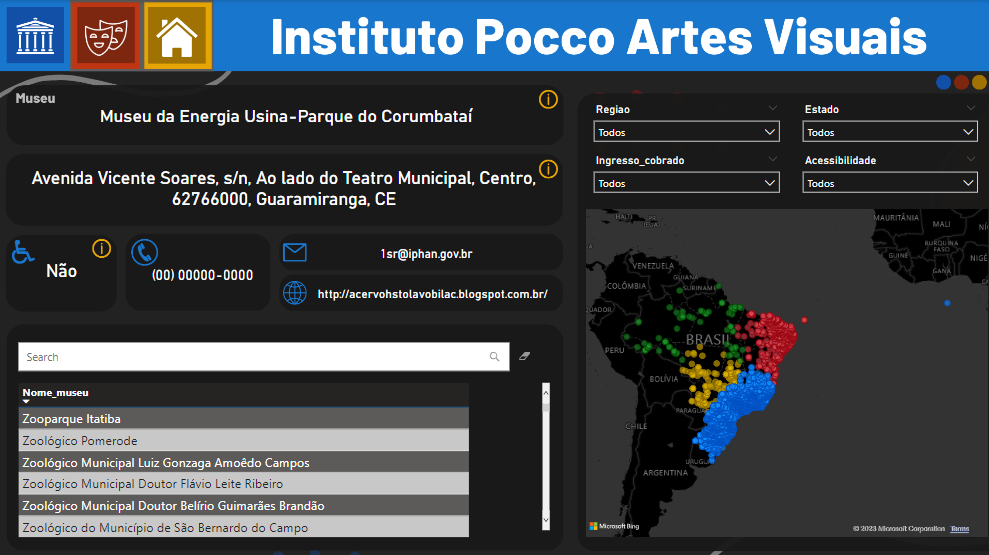

Layout of this report page (visuals, bound fields, positions):
{"tool":"powerbi","page":{"name":"Museus","canvas":[1280,720],"ordinal":1},"visuals":[{"type":"map","fields":{"Y":["Fato_museus.Latitude"],"X":["Fato_museus.Longitude"],"Series":["DIM_M_Regiao.Regiao"]},"box":[751.5,264.3,528.5,433.5],"z":0},{"type":"slicer","fields":{"Values":["DIM_M_Regiao.Regiao"]},"box":[756,128,260,66],"z":1000},{"type":"slicer","fields":{"Values":["DIM_M_Estado.Estado"]},"box":[1025.4,128,246.4,66.1],"z":2000},{"type":"slicer","fields":{"Values":["DIM_M_Ingresso_cobrado.Ingresso_cobrado"]},"box":[755.6,194.1,260.1,67.4],"z":3000},{"type":"slicer","fields":{"Values":["DIM_M_Acessibilidade.Acessibilidade"]},"box":[1025.4,194.1,246.4,67.4],"z":4000},{"type":"tableEx","fields":{"Values":["Fato_museus.Nome"]},"box":[17.9,488.6,696.4,209.2],"z":5000},{"type":"textFilter25A4896A83E0487089E2B90C9AE57C8A","fields":{"field":["Fato_museus.Nome_museu"]},"box":[17.9,436.3,682.7,52.3],"z":6000},{"type":"card","fields":{"Values":["Min(Fato_museus.Nome)"]},"box":[0,110.1,732.2,78.5],"z":7000},{"type":"card","title":"Acessibilidade","fields":{"Values":["Min(DIM_M_Acessibilidade.Acessibilidade)"]},"box":[0,302.9,158.6,90],"z":8000},{"type":"card","fields":{"Values":["Min(Fato_museus.Endereco)"]},"box":[0,191.3,732.2,101.8],"z":9000},{"type":"card","fields":{"Values":["Min(Fato_museus.Telefone_pub)"]},"box":[178.6,317.1,167.1,75.7],"z":10000},{"type":"card","fields":{"Values":["Min(Fato_museus.Sites)"]},"box":[401.4,355.7,314.3,47.1],"z":11000},{"type":"card","fields":{"Values":["Min(Fato_museus.Email_pub)"]},"box":[384.3,300,331.4,55.7],"z":12000},{"type":"actionButton","box":[90.3,0,92.9,91.6],"z":13000},{"type":"actionButton","box":[183.2,0,92.9,91.6],"z":14000}]}

Visuals, with their boxes in screenshot pixels (x1, y1, x2, y2), scaled from the page's 1280x720 canvas onto the 989x555 screenshot:
map - Fato_museus.Latitude x Fato_museus.Longitude: l=581, t=204, r=988, b=538
slicer - DIM_M_Regiao.Regiao: l=584, t=99, r=785, b=150
slicer - DIM_M_Estado.Estado: l=792, t=99, r=983, b=150
slicer - DIM_M_Ingresso_cobrado.Ingresso_cobrado: l=584, t=150, r=785, b=202
slicer - DIM_M_Acessibilidade.Acessibilidade: l=792, t=150, r=983, b=202
tableEx - Fato_museus.Nome: l=14, t=377, r=552, b=538
textFilter25A4896A83E0487089E2B90C9AE57C8A - Fato_museus.Nome_museu: l=14, t=336, r=541, b=377
card - Min(Fato_museus.Nome): l=0, t=85, r=566, b=145
"Acessibilidade" card: l=0, t=233, r=123, b=303
card - Min(Fato_museus.Endereco): l=0, t=147, r=566, b=226
card - Min(Fato_museus.Telefone_pub): l=138, t=244, r=267, b=303
card - Min(Fato_museus.Sites): l=310, t=274, r=553, b=310
card - Min(Fato_museus.Email_pub): l=297, t=231, r=553, b=274
actionButton: l=70, t=0, r=142, b=71
actionButton: l=142, t=0, r=213, b=71
